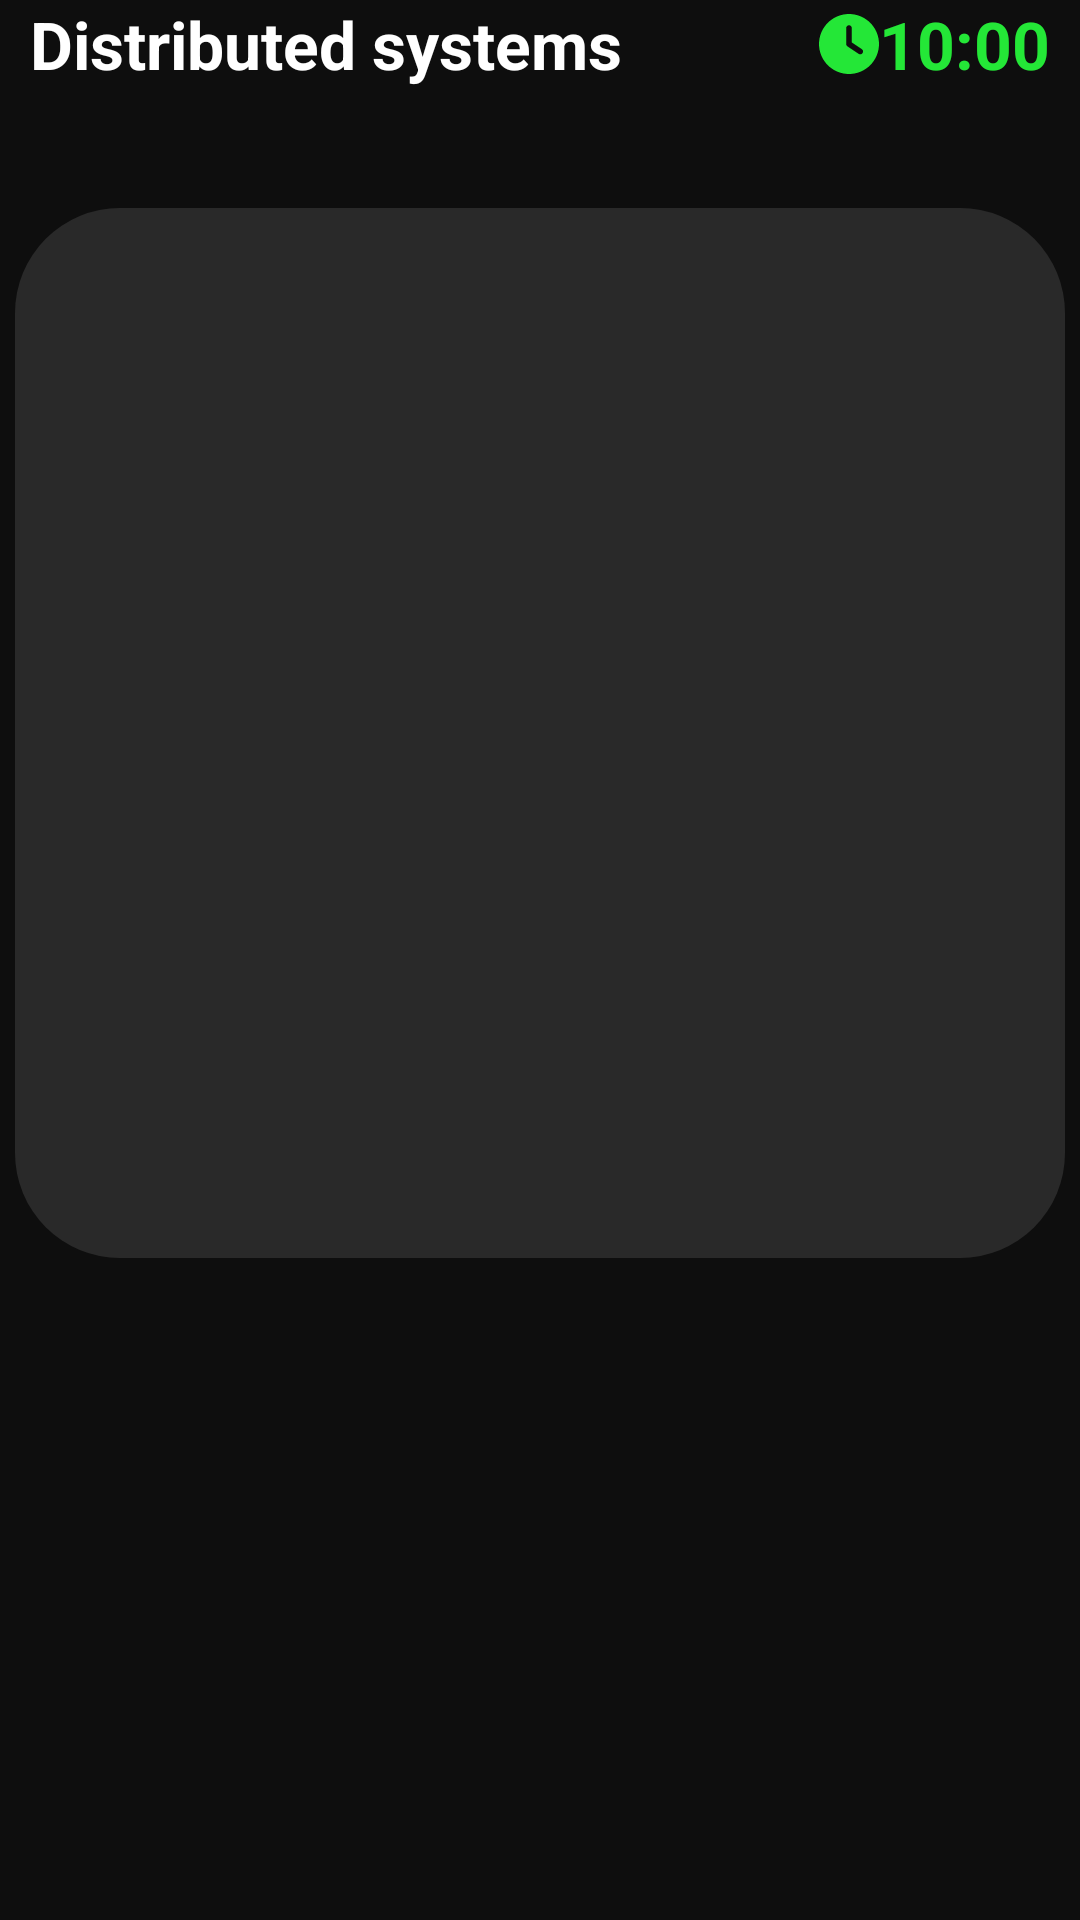

Screen size 1080 x 1920. Icon name, then its box in pixels as (x1=x1, y1=y1, x2=x2, y2=y2):
clock: (x1=819, y1=14, x2=879, y2=74)
